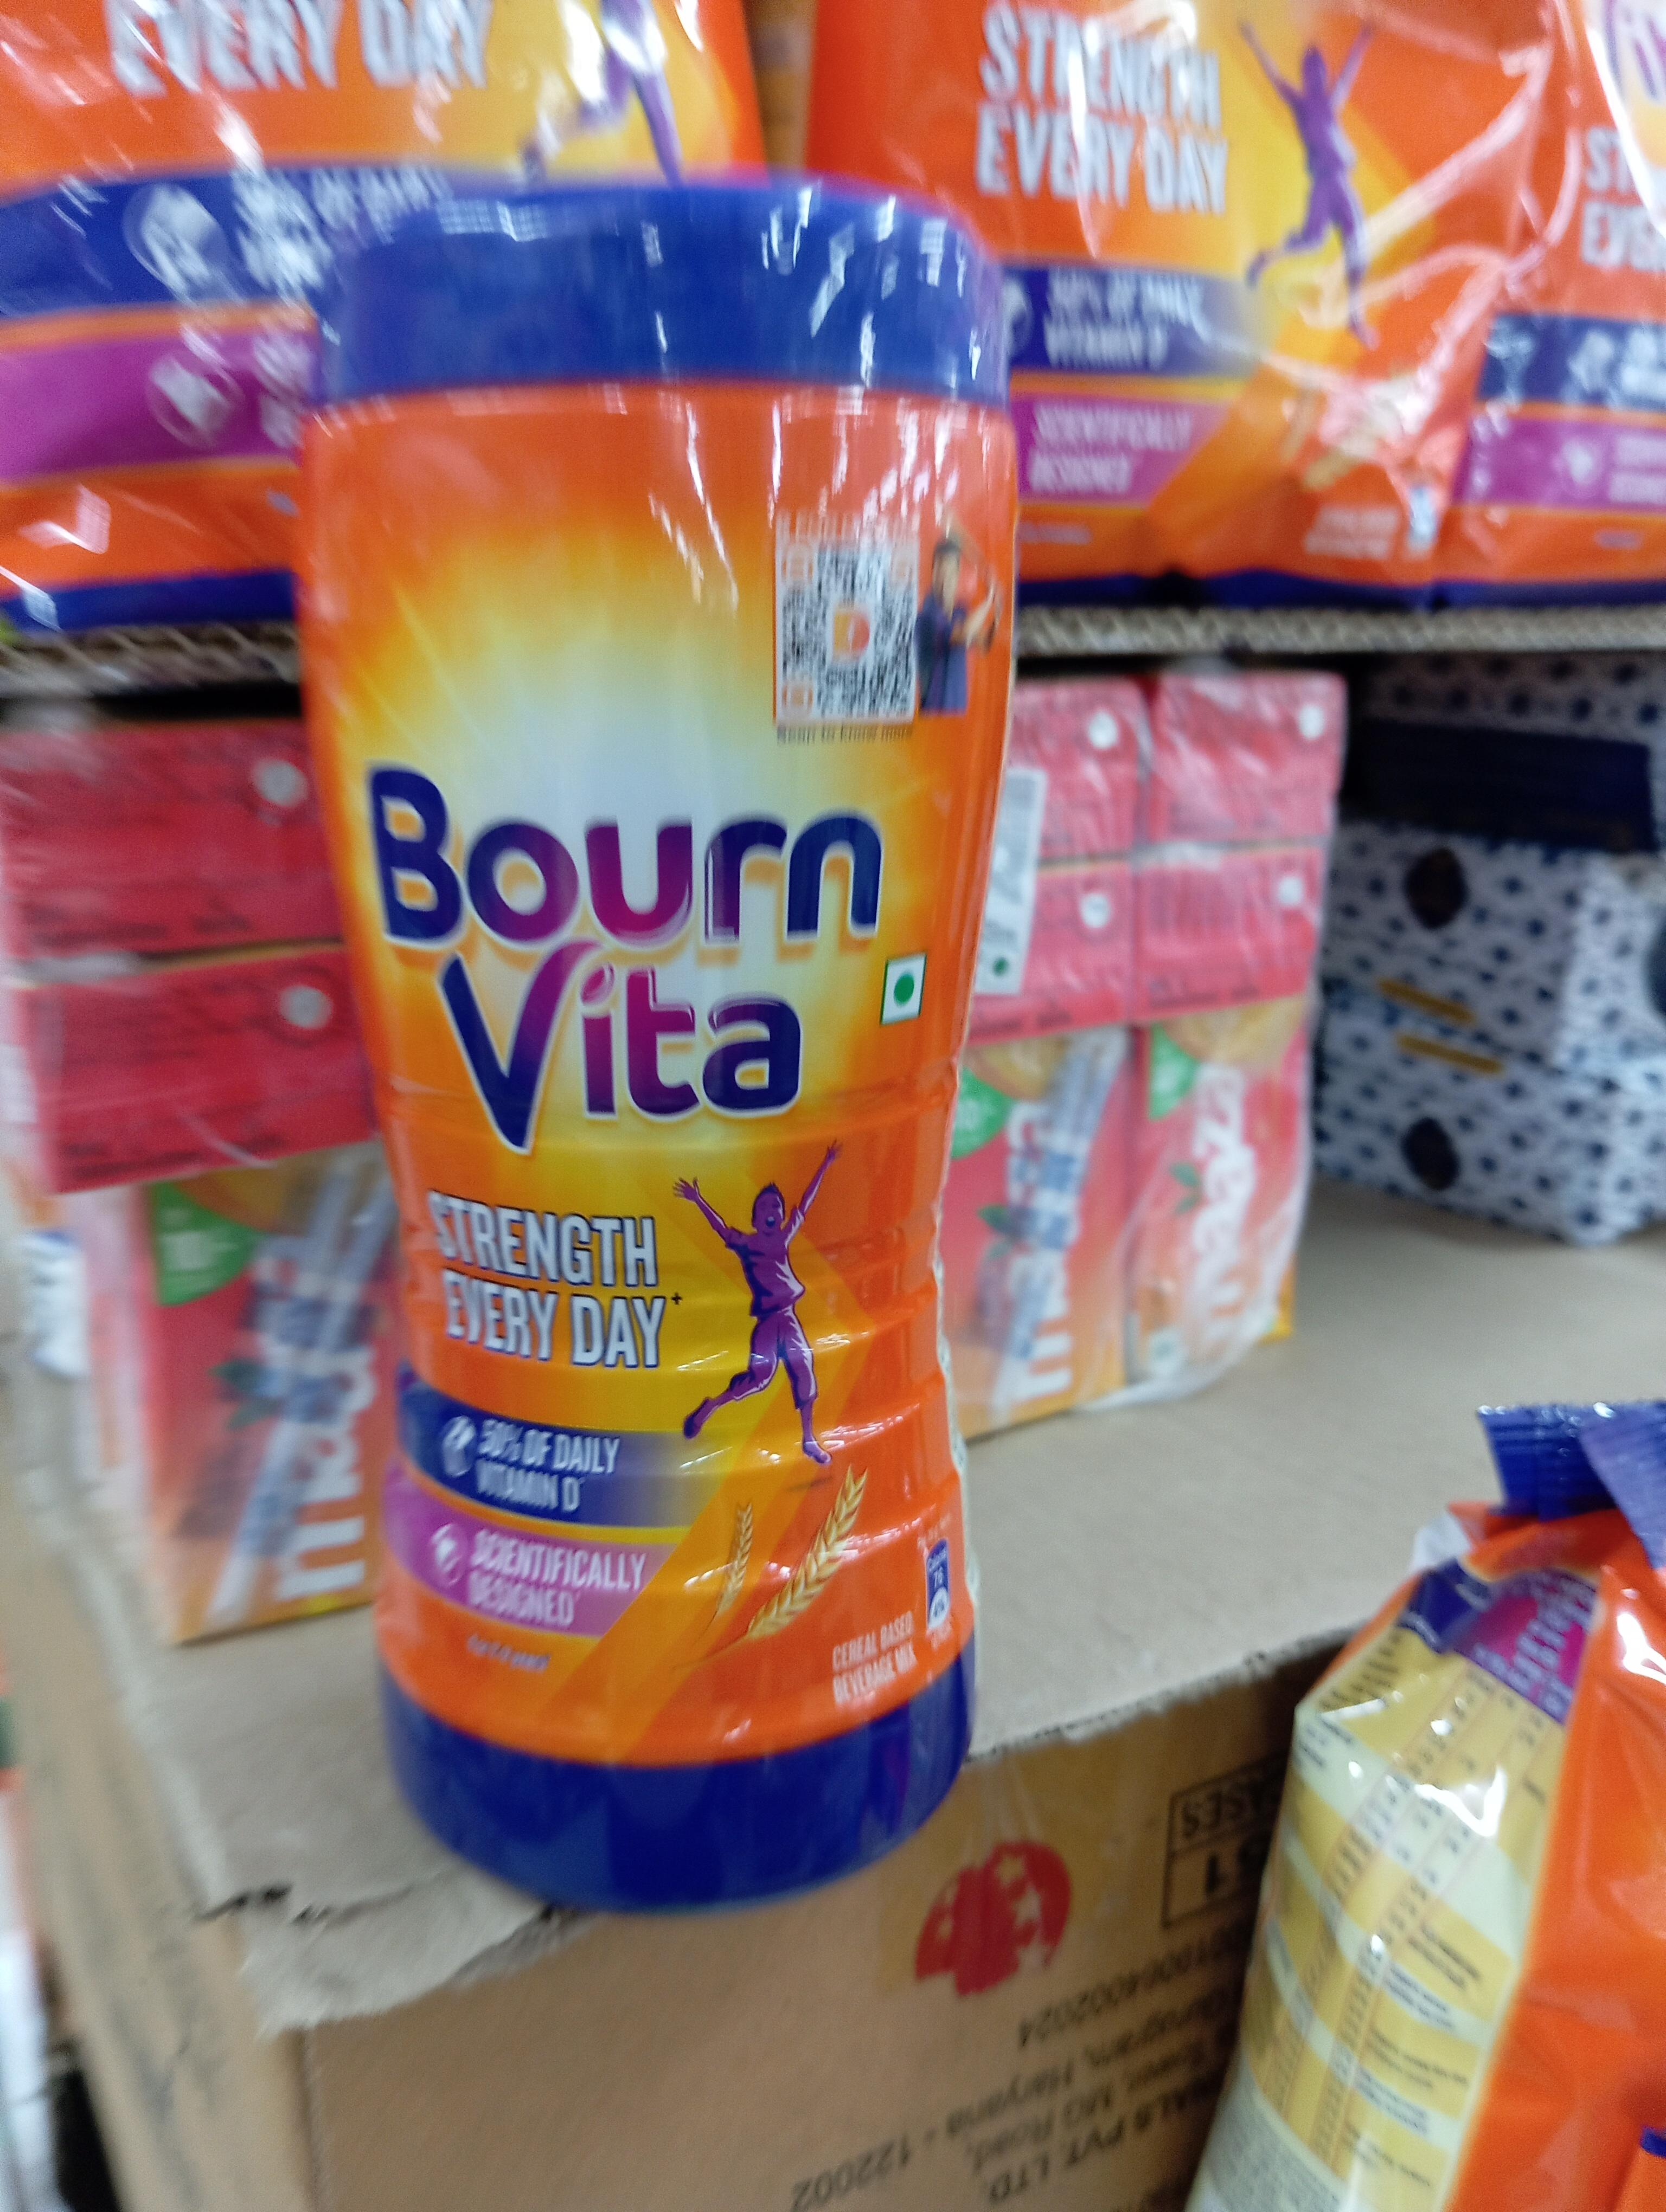BOURN_VITA_500_G_JAR: (292, 152, 982, 1908)
